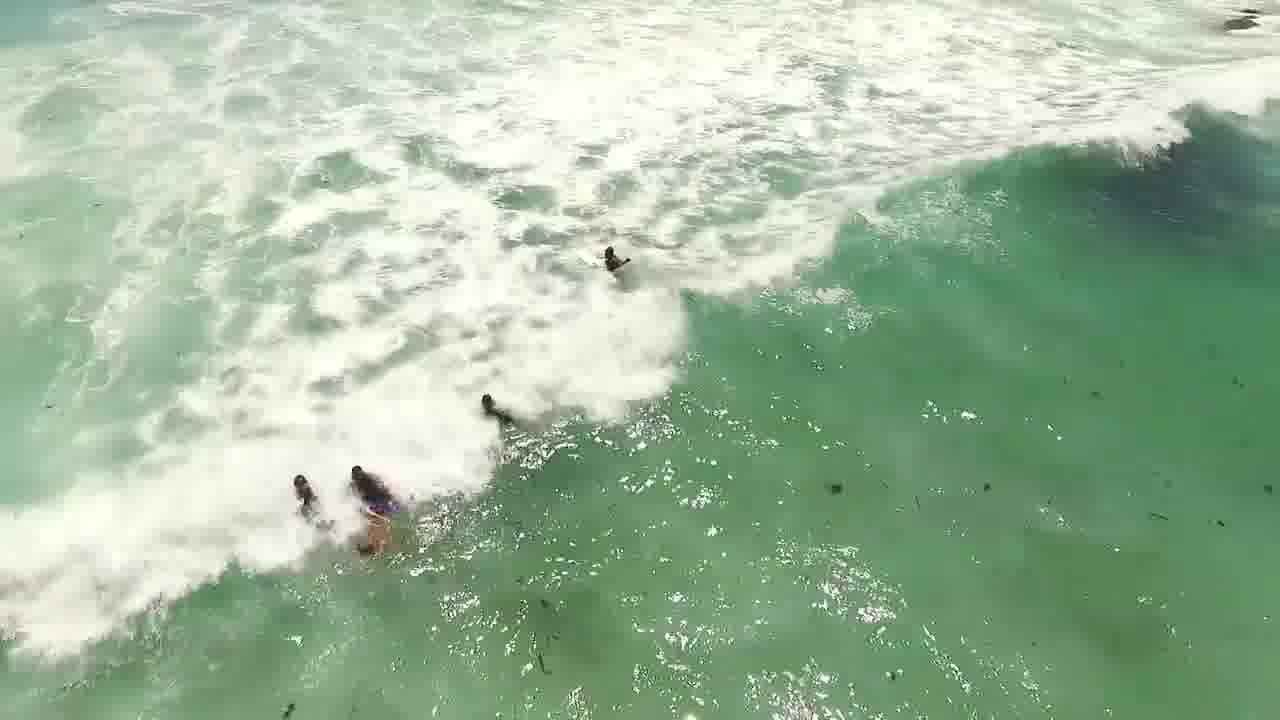swimmer: (337, 447, 407, 510), (585, 238, 651, 286), (277, 467, 328, 524), (465, 384, 521, 431)
